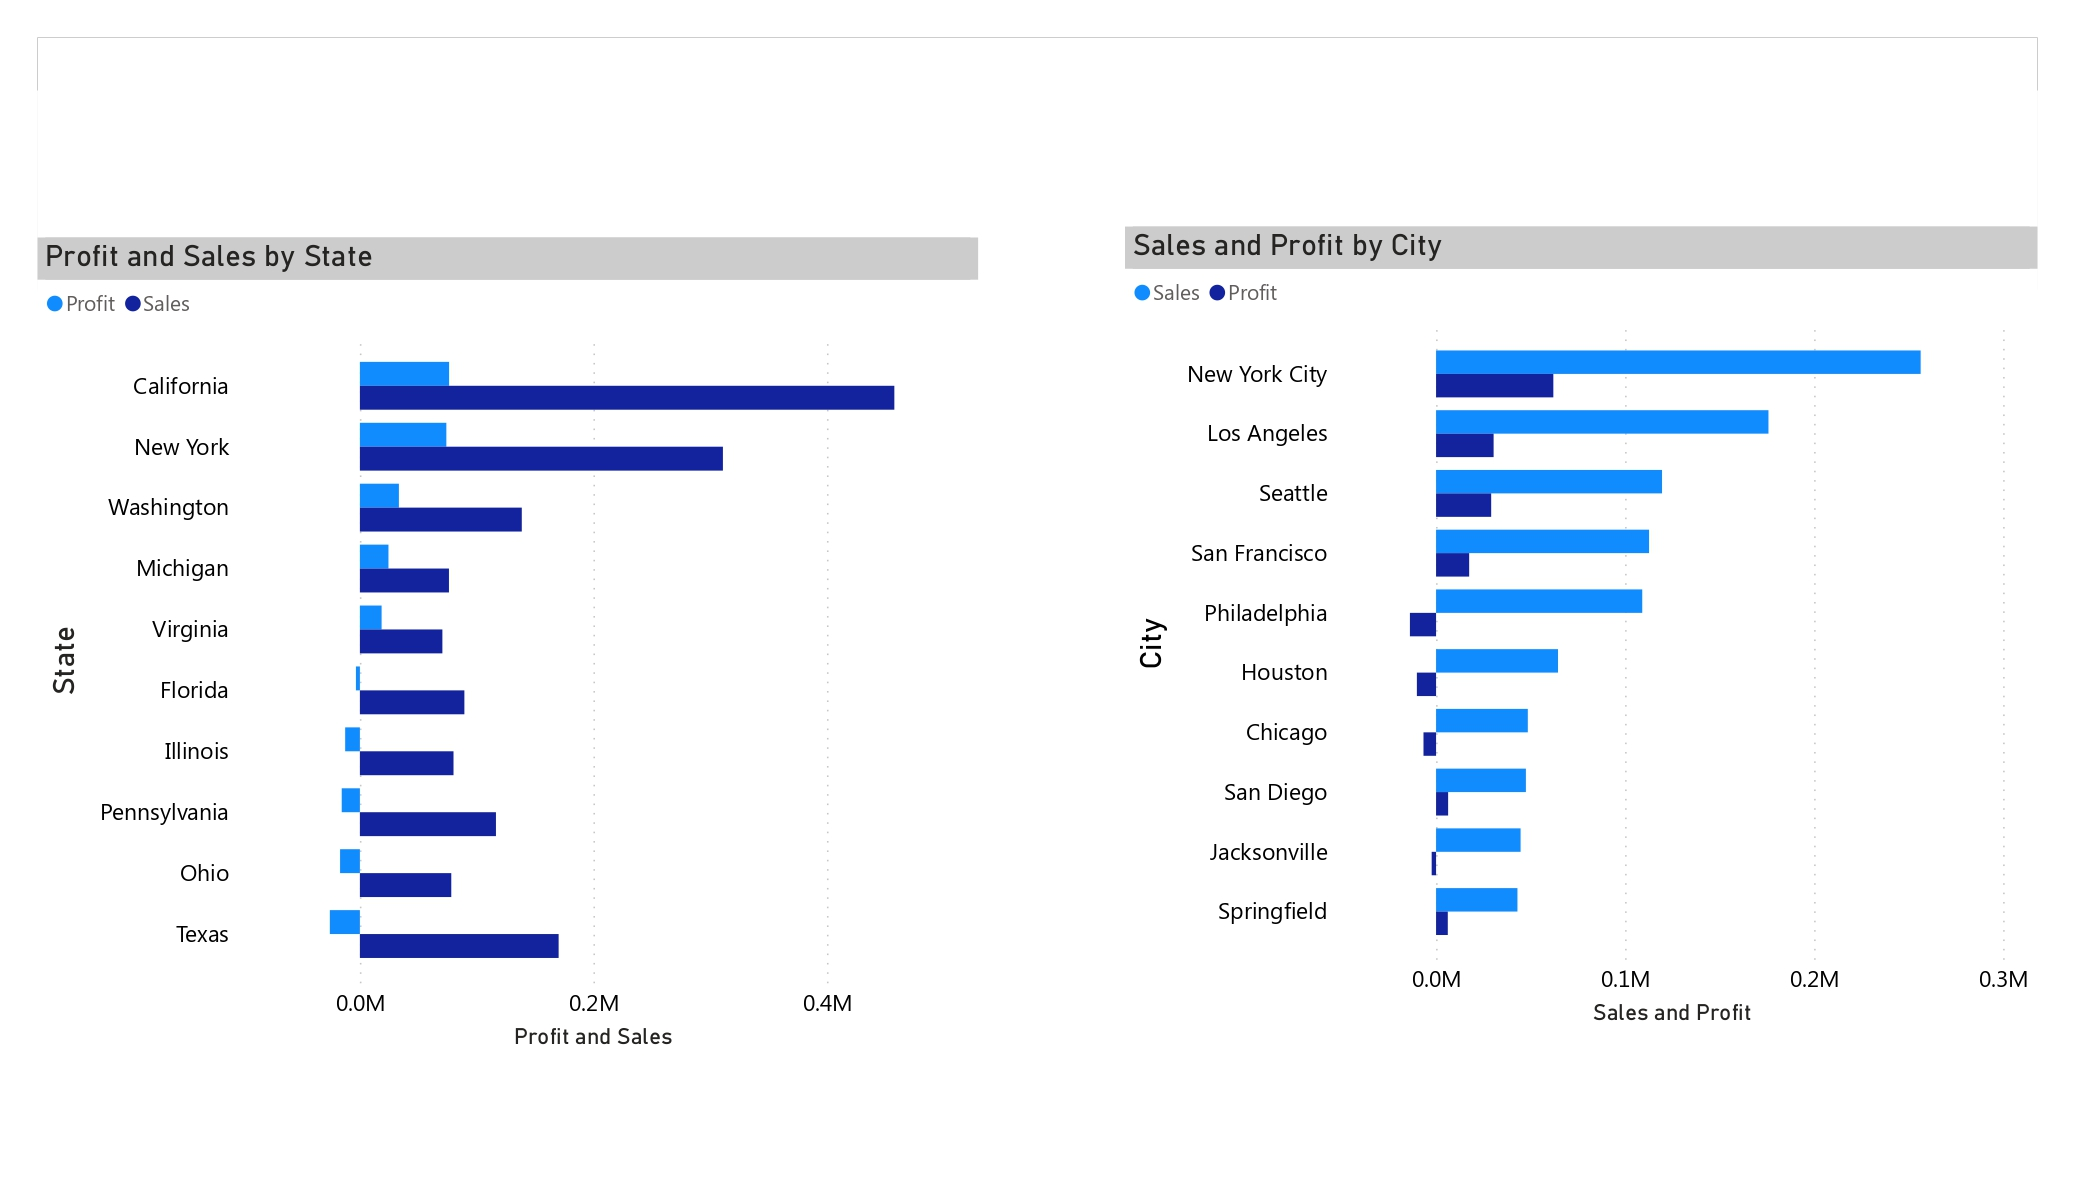

The dashboard page shown, as its layout file describes it:
{"tool":"powerbi","page":{"name":"Page2","canvas":[1280,720],"ordinal":1},"visuals":[{"type":"clusteredBarChart","fields":{"Y":["Sum(Orders.Profit)","Sum(Orders.Sales)"],"Category":["Orders.State"]},"box":[0,127.8,601.9,524.2],"z":0},{"type":"clusteredBarChart","fields":{"Y":["Sum(Orders.Sales)","Sum(Orders.Profit)"],"Category":["Orders.City"]},"box":[695.7,121.3,584.1,516.1],"z":1000}]}

Visuals, with their boxes on the page's 1280x720 design canvas (x1, y1, x2, y2). These are canvas units, not pixel positions in the 2075x1200 screenshot, which may show the page scaled, cropped or inside an application window:
clusteredBarChart - Sum(Orders.Profit) x Sum(Orders.Sales): <box>0,128,602,652</box>
clusteredBarChart - Sum(Orders.Sales) x Sum(Orders.Profit): <box>696,121,1280,637</box>
